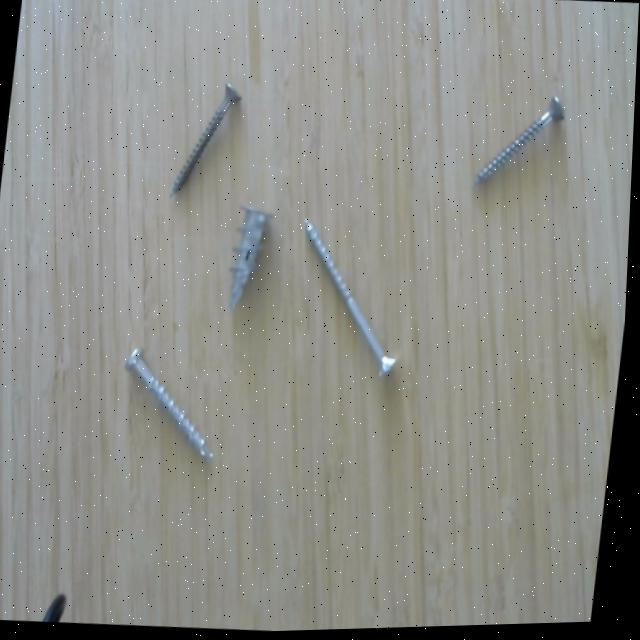Black screw: (467, 88, 573, 197), (166, 81, 249, 210)
Long screw: (299, 208, 408, 393)
Medium screw: (119, 339, 227, 469)
Short screw: (226, 201, 280, 317)
